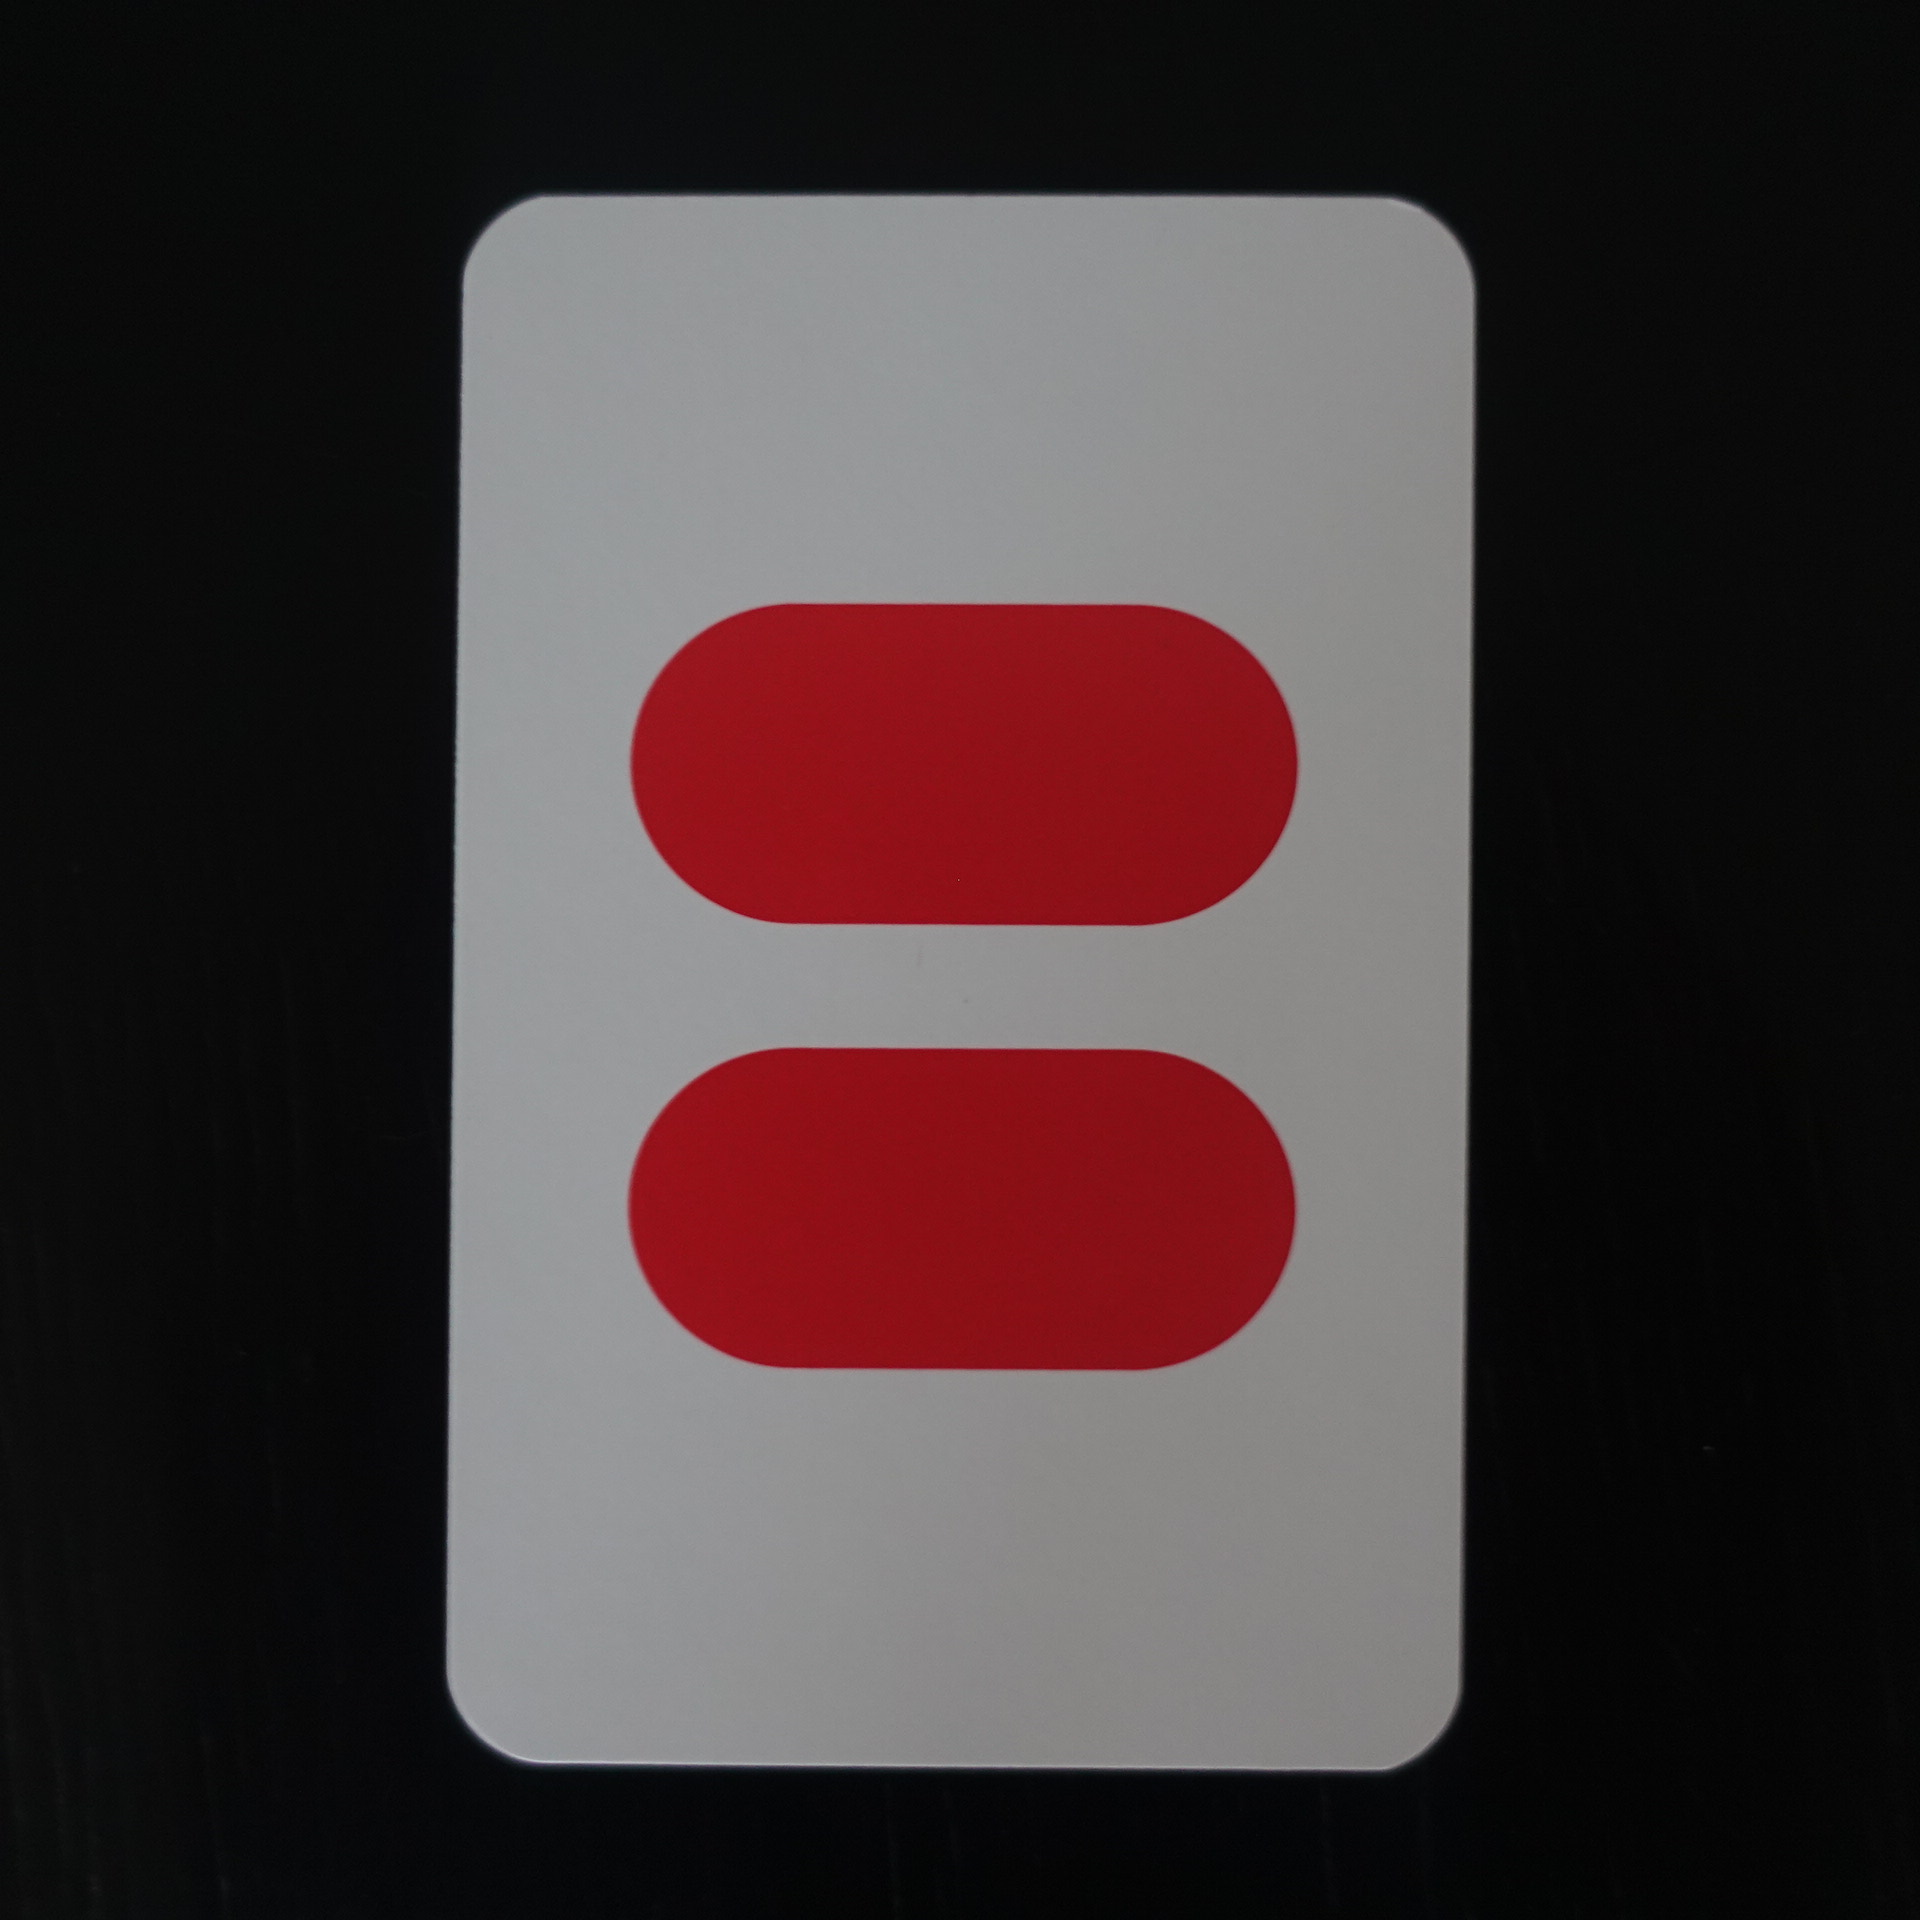c-2-f-d-r: (420, 172, 1503, 1807)
